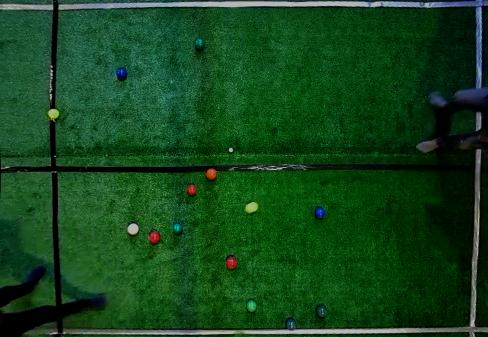blue: (315, 207, 326, 218), (116, 68, 127, 79)
green: (246, 299, 257, 312), (286, 318, 297, 330), (317, 304, 327, 317), (195, 37, 205, 49), (173, 223, 183, 234)
red: (148, 231, 161, 244), (127, 223, 139, 236), (206, 168, 218, 180), (226, 256, 237, 269), (186, 185, 197, 196)
vline: (1, 119, 62, 304), (1, 1, 59, 107), (468, 149, 487, 336), (1, 319, 65, 336), (475, 1, 487, 89), (475, 110, 487, 132)
white: (229, 147, 234, 153)
yellow: (245, 202, 259, 214), (47, 108, 60, 120)
